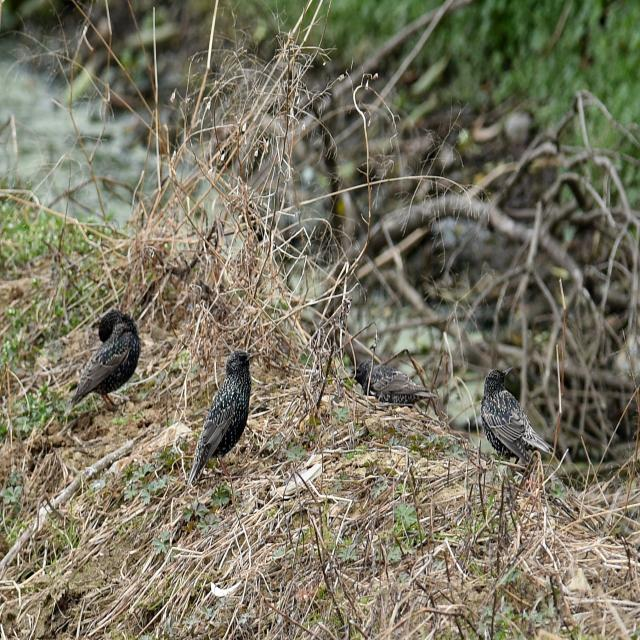bird: (67, 310, 147, 414), (480, 365, 552, 478), (195, 352, 261, 474)
